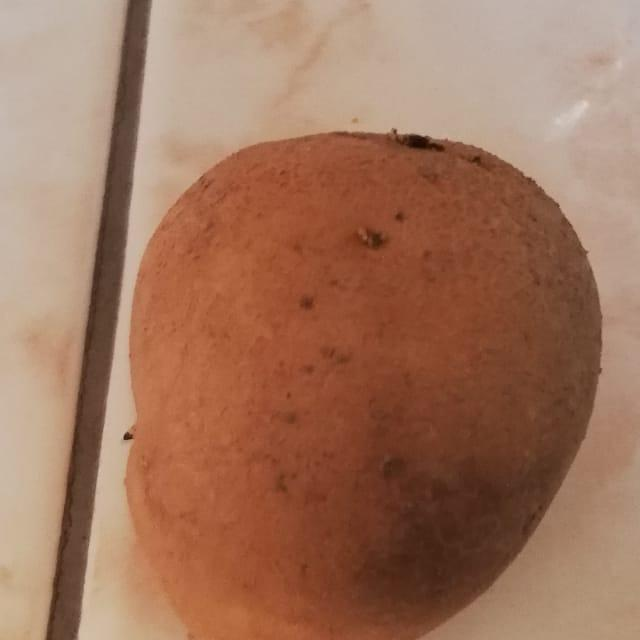potato: (92, 105, 612, 640)
